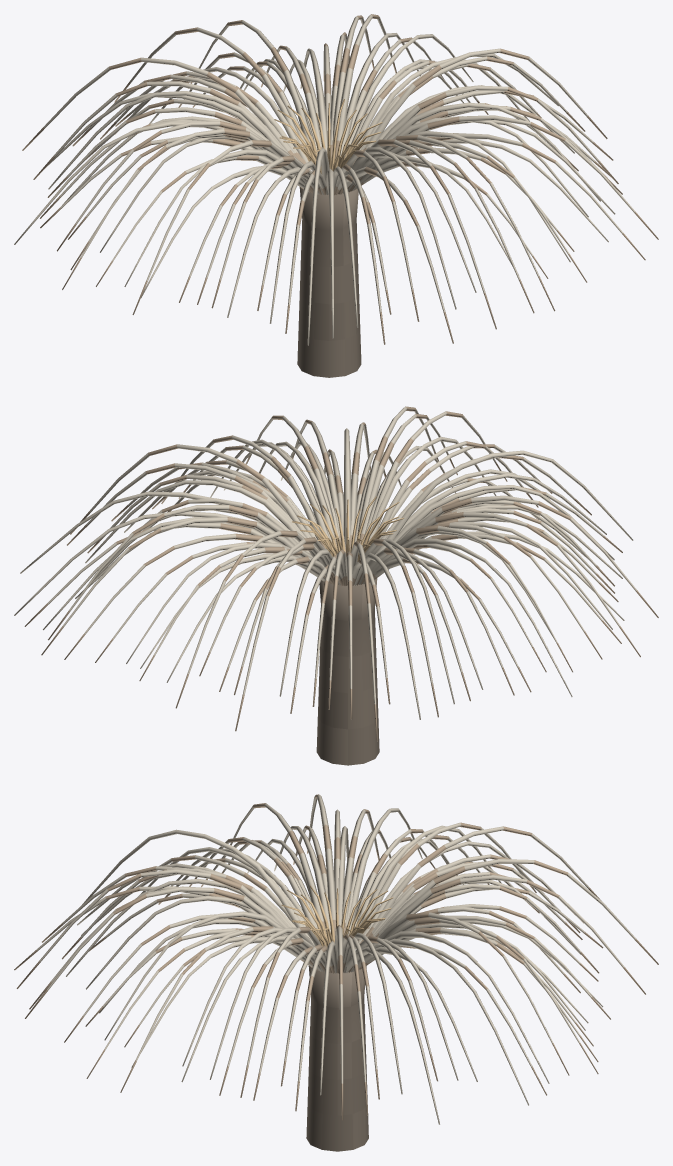
The model's file is tube_anemone.glb.
3 views of the same model, one above another, from view 1: azimuth 30°, elevation 25°; view 2: azimuth 150°, elevation 25°; view 3: azimuth 270°, elevation 25° (orthographic). The views are drawn at different scales.
Parts seen in each view (by area): view 1: tube_anemone; view 2: tube_anemone; view 3: tube_anemone.
Part boxes in pixels (x1,y1,x2,y2): tube_anemone: (14, 14, 658, 377); tube_anemone: (14, 406, 658, 765); tube_anemone: (14, 794, 658, 1151).
Bounding box in the file's own units: 0.5208 × 0.244 × 0.5284.
